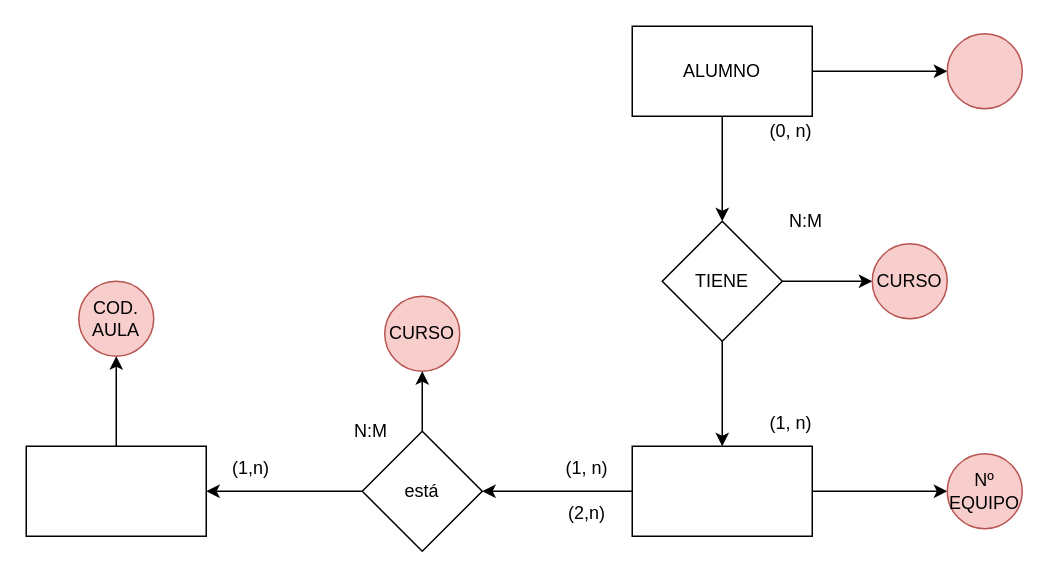
Image size: 1049x578. Some labels were removed from this diagram. The shapes that lost their labels are listed below. From the top down, each one's centre as x and y in pixels, then its label:
At pixel 984 70: "DNI".
At pixel 115 490: "AULA".
At pixel 721 490: "ORDENADOR".
